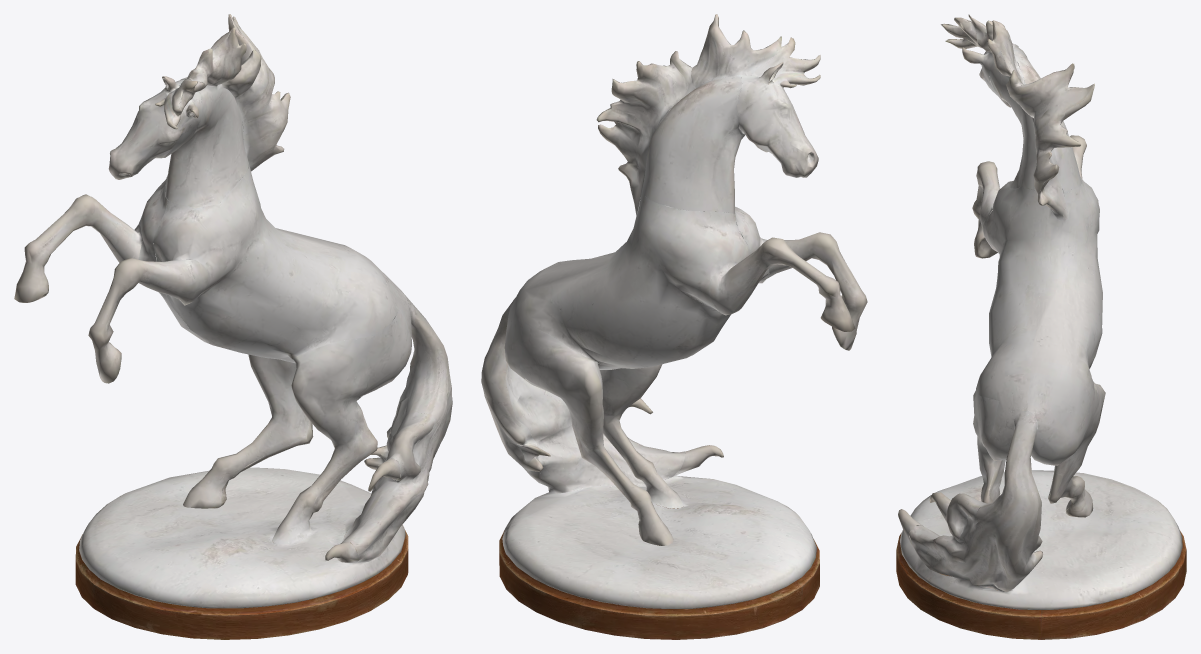
The model's file is horse.glb.
The picture shows the model from 3 angles, left to right: view 1: azimuth 30°, elevation 25°; view 2: azimuth 150°, elevation 25°; view 3: azimuth 270°, elevation 25°; orthographic projection. The views are drawn at different scales.
Visible parts, largest first — view 1: horse_statue_01; view 2: horse_statue_01; view 3: horse_statue_01.
Boxes of the visible parts, bbox=[...] form: horse_statue_01: bbox=[14, 14, 452, 639]; horse_statue_01: bbox=[481, 14, 867, 639]; horse_statue_01: bbox=[896, 14, 1186, 639].
Size of the model in its own units: 0.1637 by 0.2199 by 0.1078.
1 material, 1 textured.
